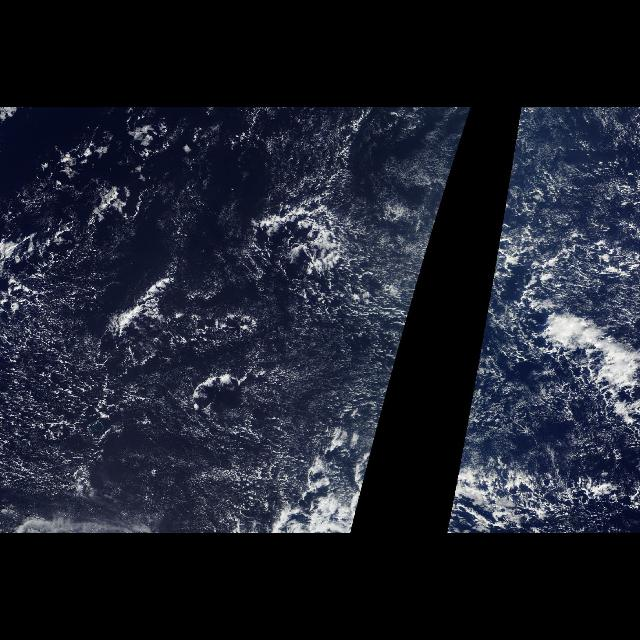Gravel: (4, 213, 438, 533), (446, 218, 636, 532)
Sugar: (1, 108, 472, 210), (138, 361, 286, 519), (502, 108, 636, 210)
